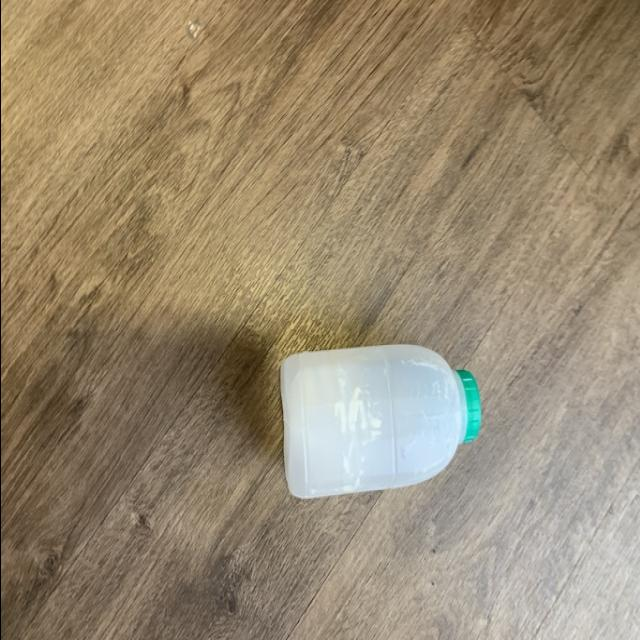litter: (278, 340, 478, 508)
